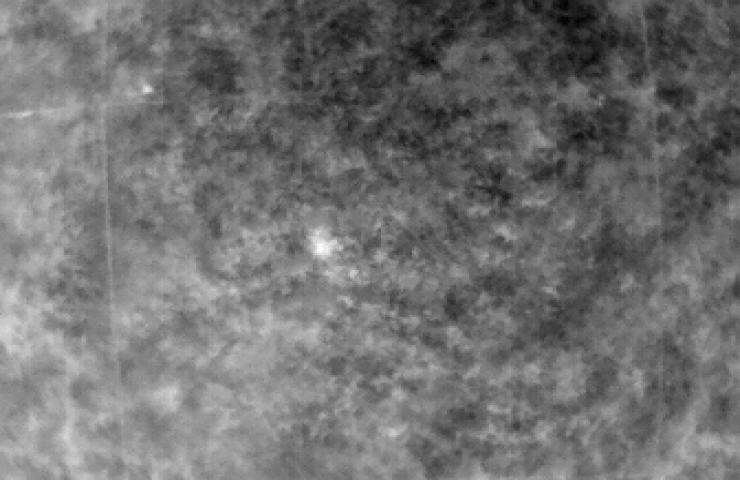landmines: (304, 227, 349, 262)
